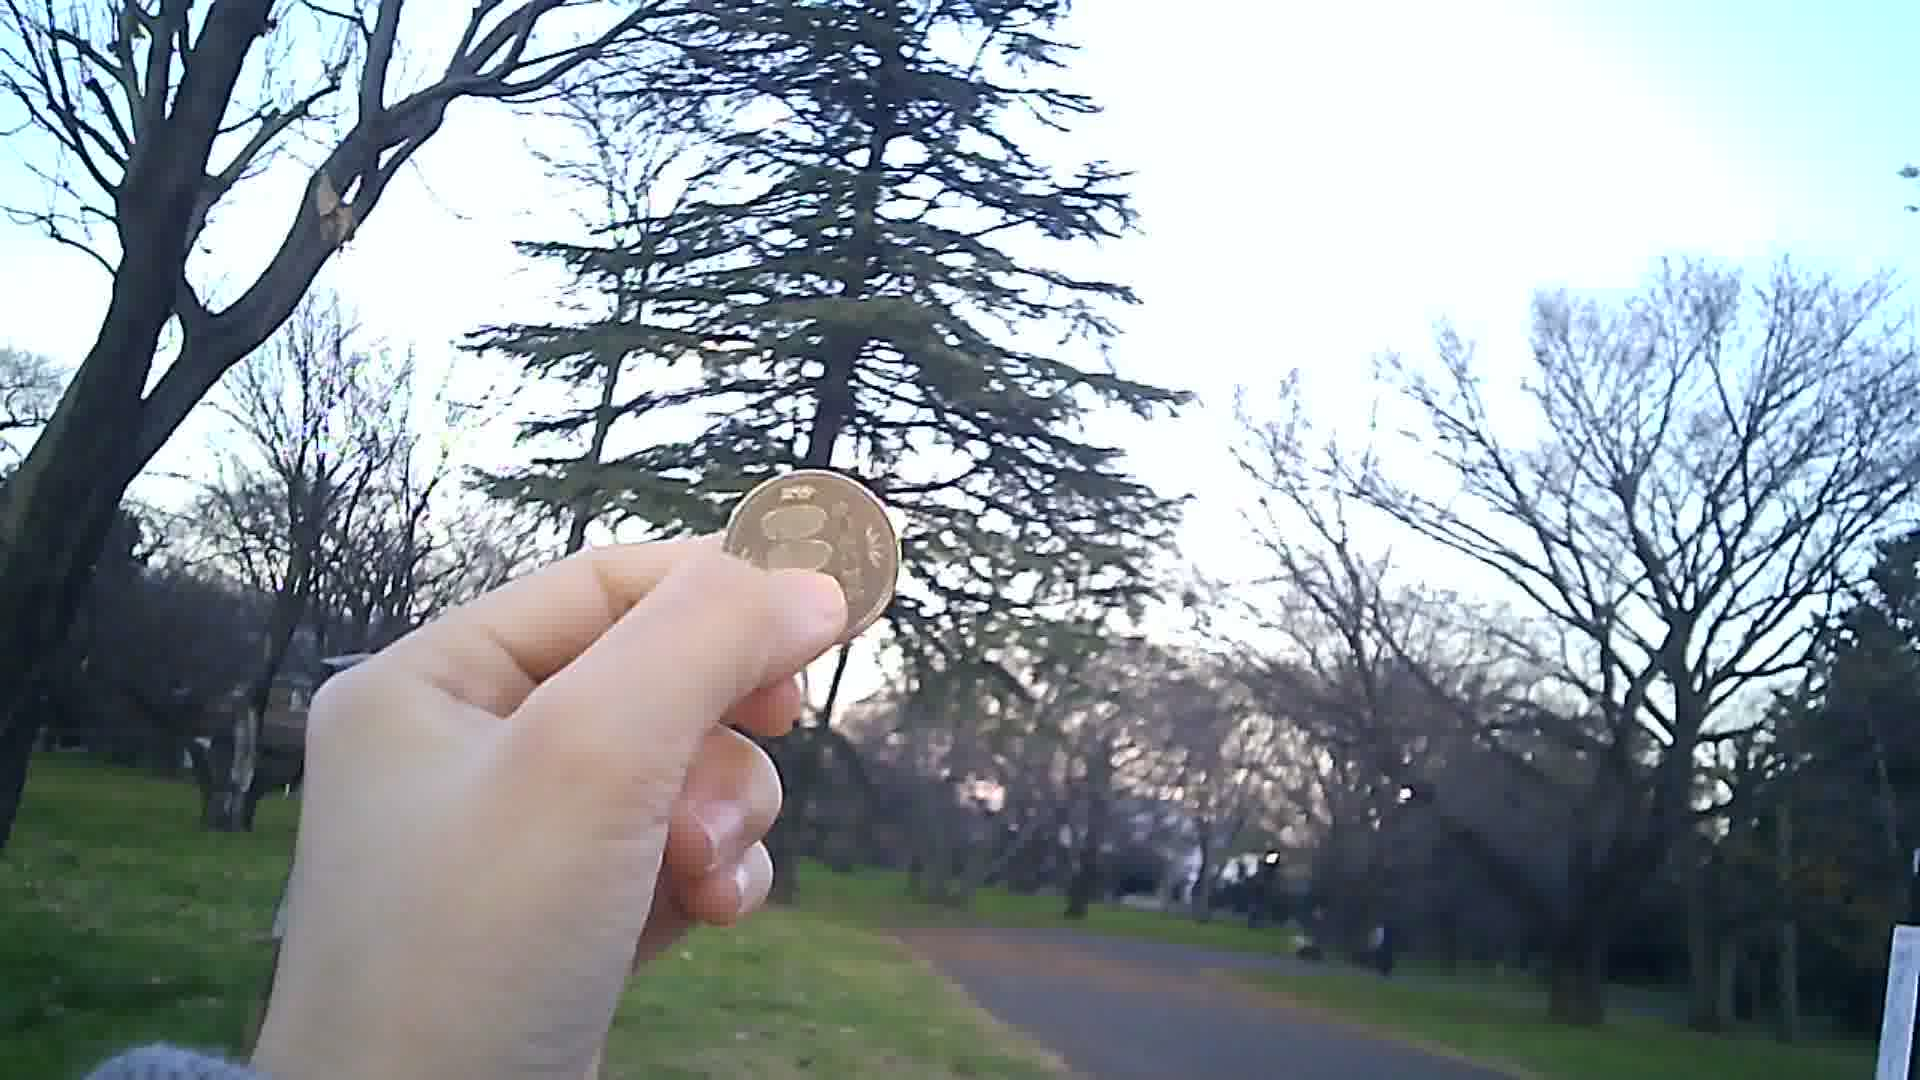500 Yen: (721, 471, 906, 647)
